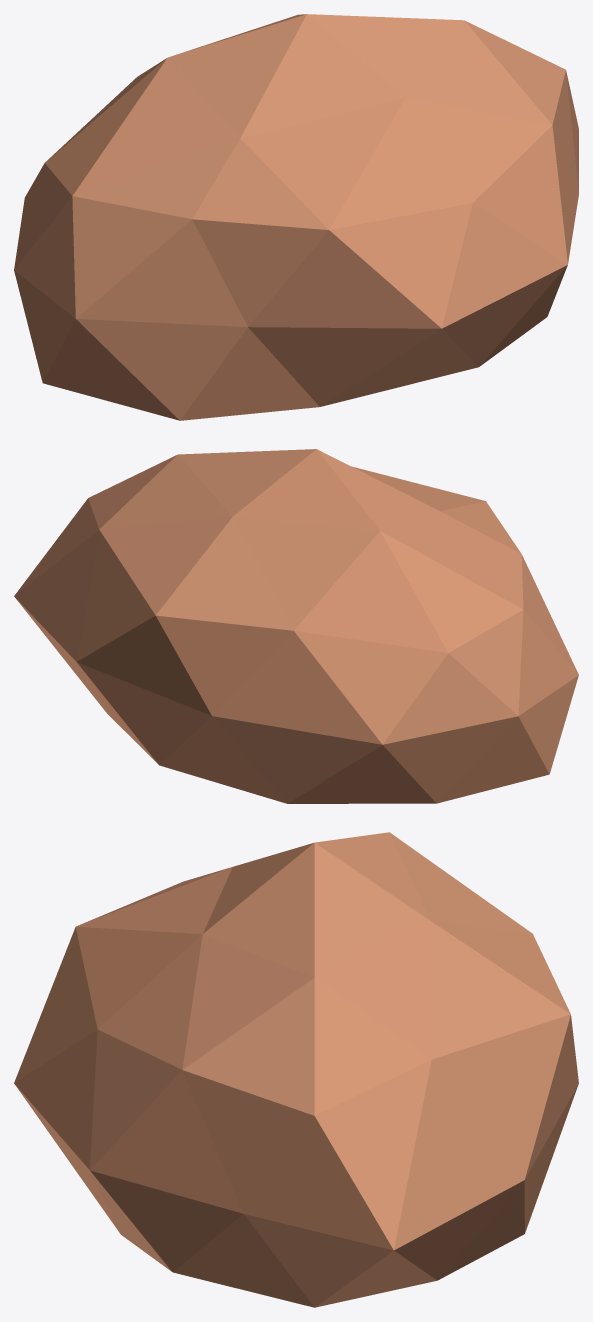
File: Rock_04.glb
3 views of the same model, one above another, from view 1: azimuth 30°, elevation 25°; view 2: azimuth 150°, elevation 25°; view 3: azimuth 270°, elevation 25° (orthographic). The views are drawn at different scales.
Parts seen in each view (by area): view 1: Eroded Mars boulder.003; view 2: Eroded Mars boulder.003; view 3: Eroded Mars boulder.003.
Part boxes in pixels (x1,y1,x2,y2): Eroded Mars boulder.003: [14, 14, 578, 420]; Eroded Mars boulder.003: [14, 449, 578, 803]; Eroded Mars boulder.003: [14, 832, 578, 1307].
Size of the model in its own units: 1.89 by 0.9789 by 1.45.
